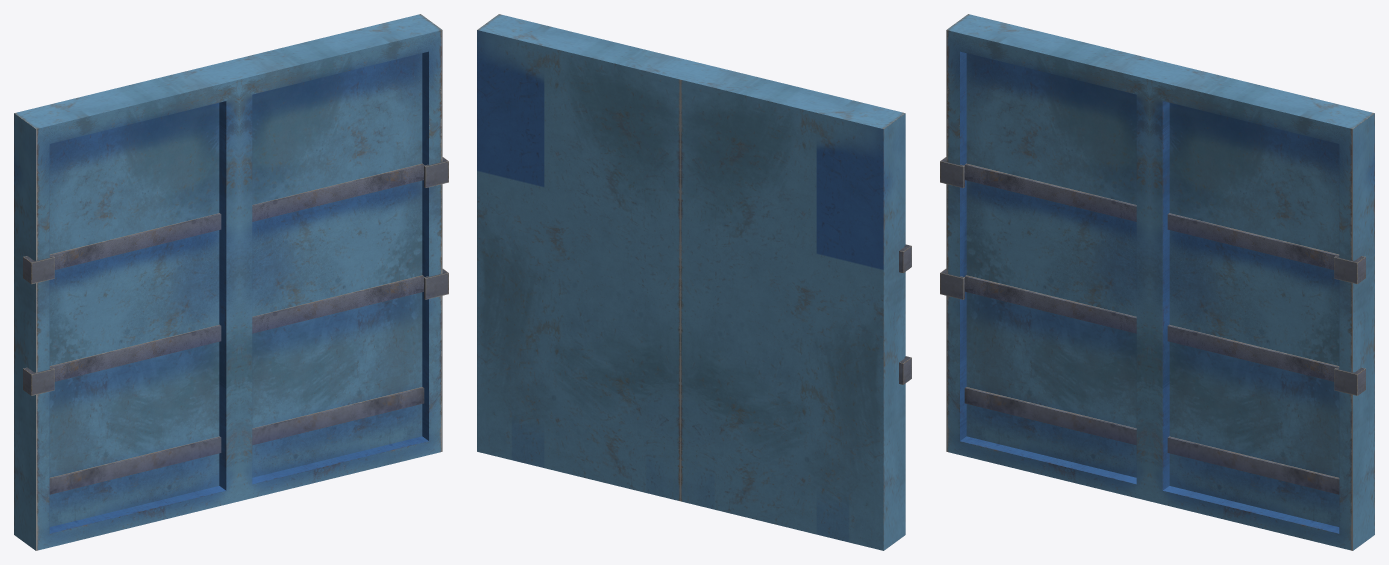
Rendered from Irondoor_melt_A.fbx.
3 views of the same model, side by side, from view 1: azimuth 30°, elevation 25°; view 2: azimuth 150°, elevation 25°; view 3: azimuth 330°, elevation 25° (orthographic).
Parts seen in each view (by area): view 1: Irondoor; view 2: Irondoor; view 3: Irondoor.
Part boxes in pixels (<box>): Irondoor: <box>14,14,448,550</box>; Irondoor: <box>477,14,911,550</box>; Irondoor: <box>940,14,1374,550</box>.
Bounding box in the file's own units: 172 × 166 × 16.2.
1 material, 1 textured.
